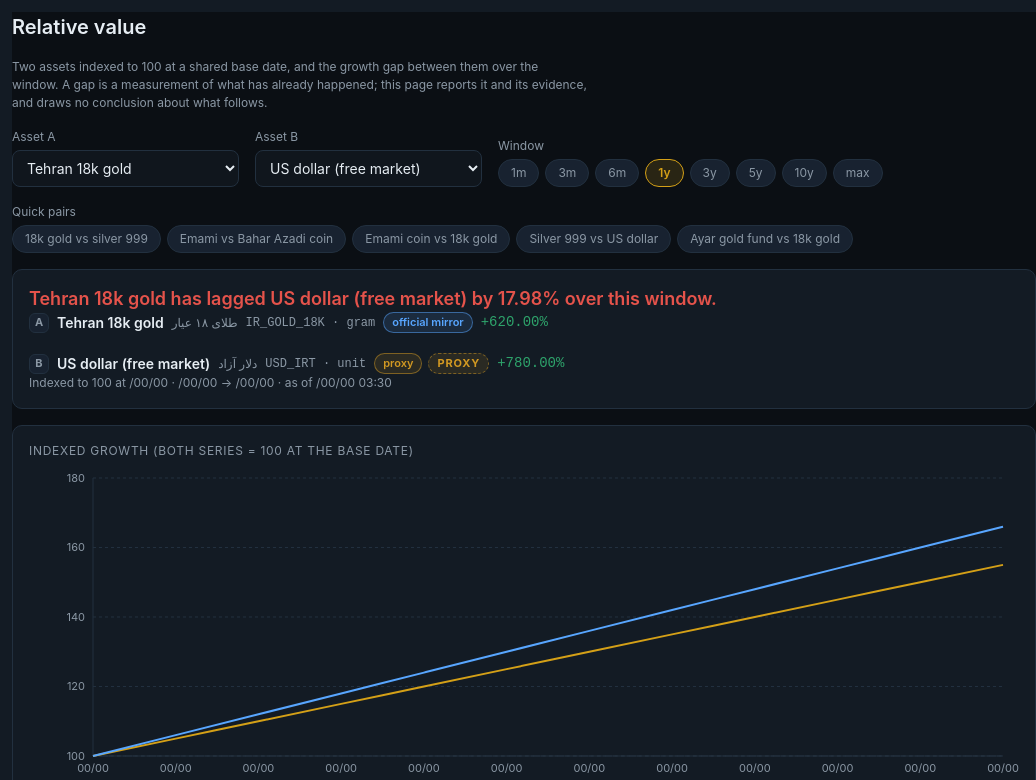
Test: RelativeValue — quick pairs › sets both legs at once and asks for exactly that pair
Expected: the text with test id "rv-headline" is shown, x1=29 y1=288 x2=717 y2=309
Click the button "Emami vs Bahar Azadi coin".
click(256, 239)  # box x1=167 y1=225 x2=346 y2=253
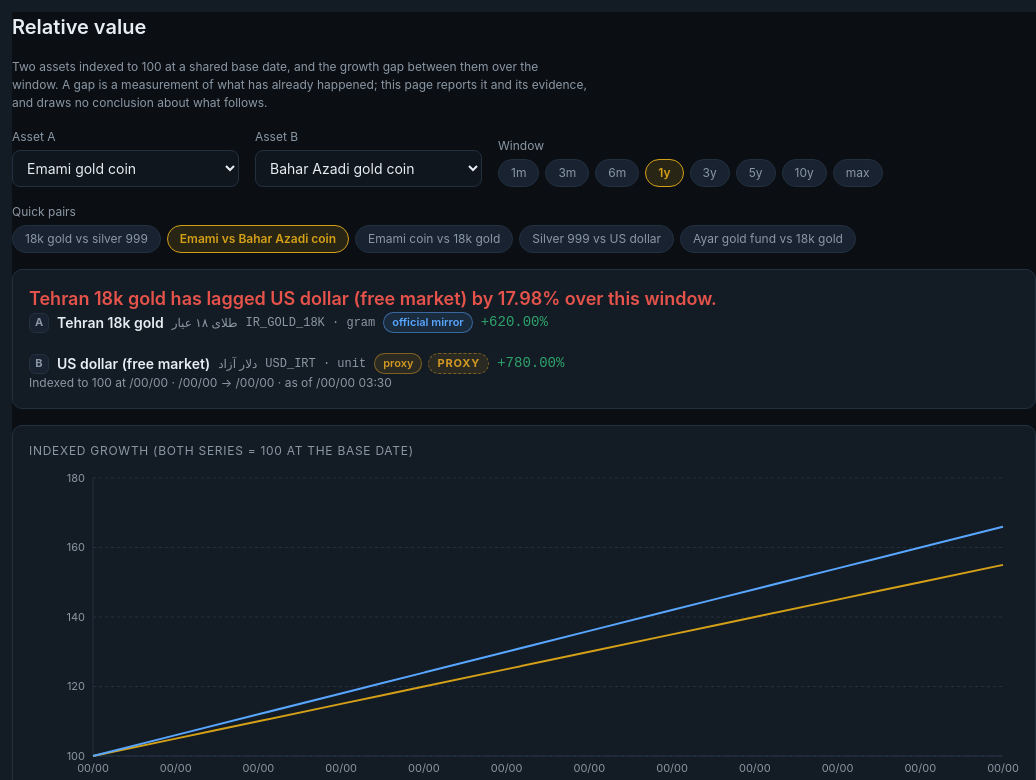
Expected: the dropdown labelled "Asset A" shows "Emami gold coin", x1=12 y1=150 x2=239 y2=187
Expected: the dropdown labelled "Asset B" shows "Bahar Azadi gold coin", x1=255 y1=150 x2=482 y2=187
